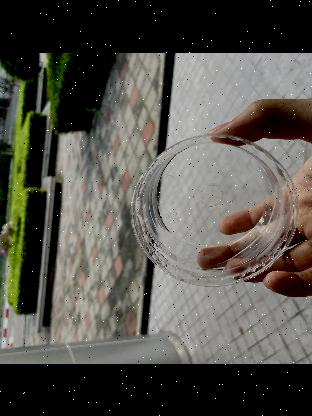Others: (126, 127, 302, 295)
